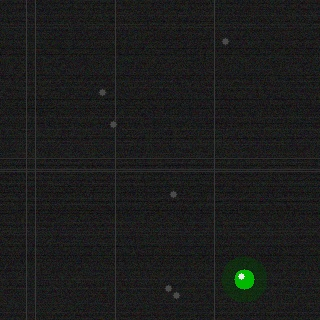green_normal: (232, 267, 256, 291)
